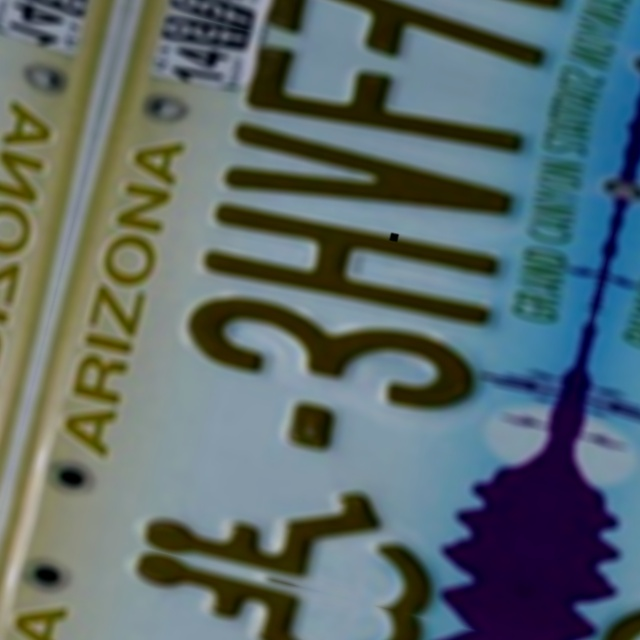ISA: (131, 438, 456, 619), (105, 545, 429, 640), (595, 554, 640, 640)
